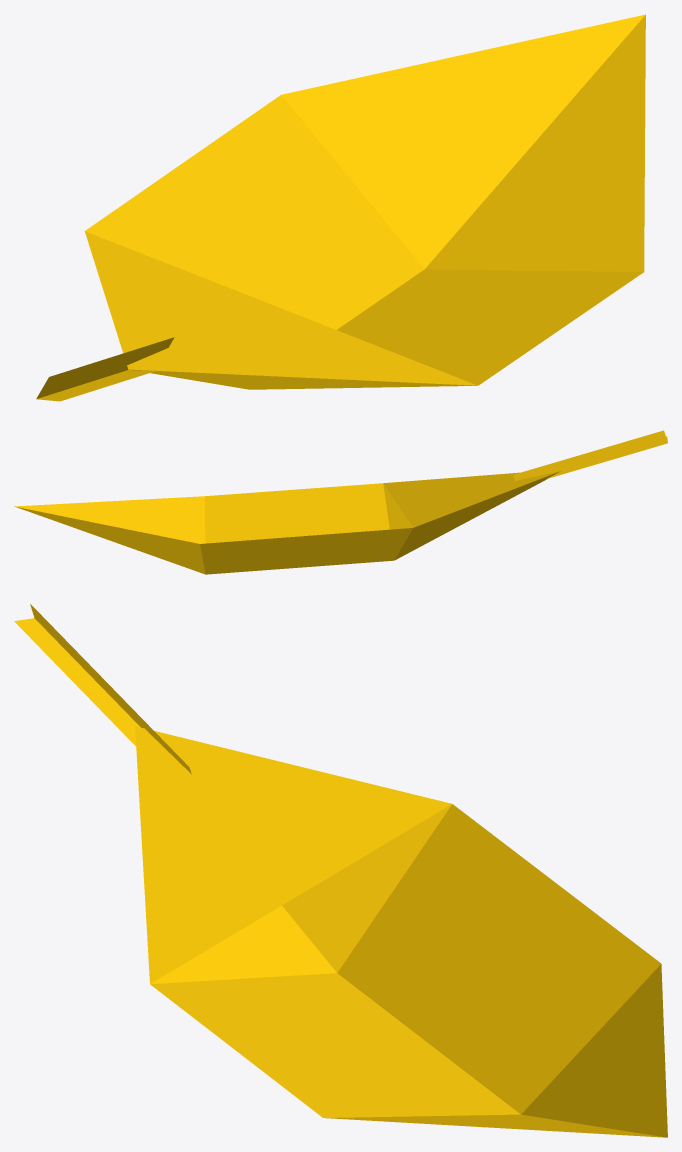
Rendered from autumnleaf.glb.
The picture shows the model from 3 angles, top to bottom: view 1: azimuth 30°, elevation 25°; view 2: azimuth 150°, elevation 25°; view 3: azimuth 270°, elevation 25°; orthographic projection. The views are drawn at different scales.
Visible parts, largest first — view 1: model.001; view 2: model.001; view 3: model.001.
Part boxes in pixels (bbox=[...]): model.001: bbox=[36, 14, 645, 401]; model.001: bbox=[14, 430, 667, 574]; model.001: bbox=[14, 604, 667, 1137].
Size of the model in its own units: 0.1451 by 0.0359 by 0.0944.
